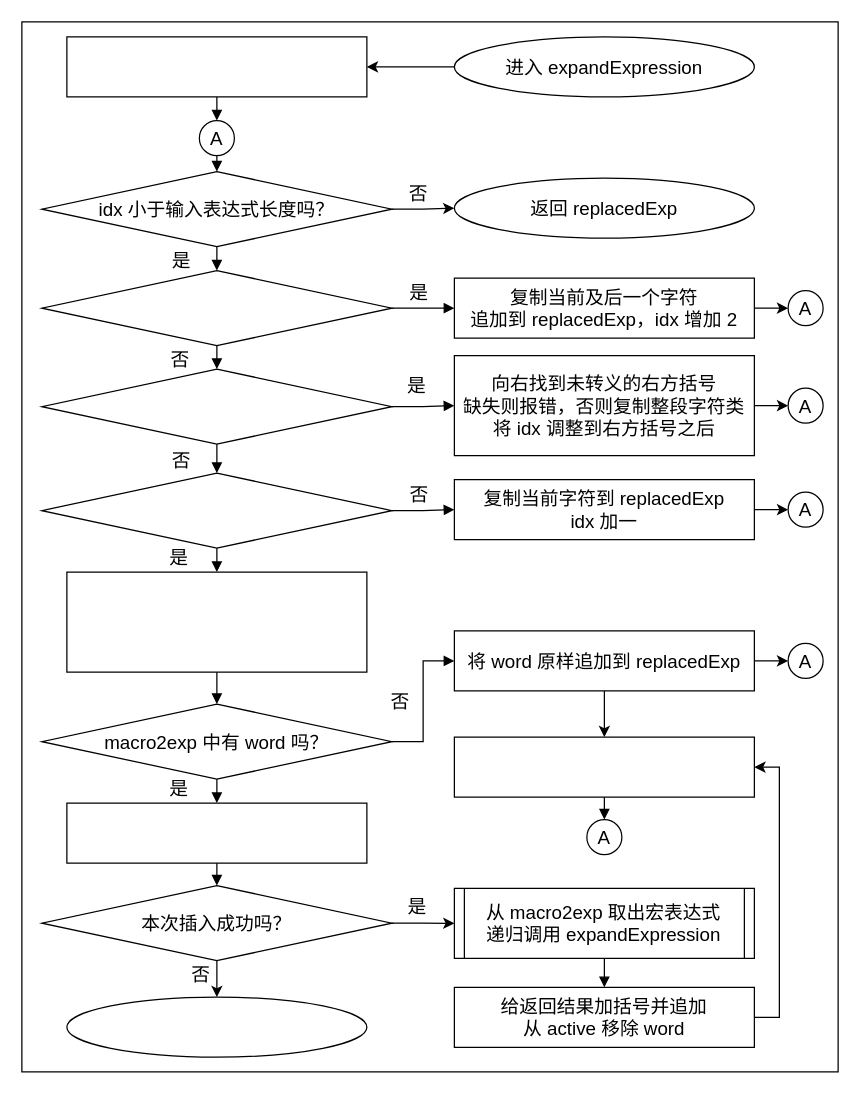
The diagram is 860 pixels wide and 1094 high, and some of its shapes have lost their labels. The shapes that lost their labels are listed below. From the top down, each one's box as (x1, y1, x2, y2) in pixels, then its label:
(66, 36, 367, 97): 建立空的 replacedExp 将扫描下标 idx 初始化为 0
(41, 269, 392, 346): 当前位置是反斜杠 且其后还有字符吗？
(41, 368, 392, 444): 当前位置是左方括号吗？
(41, 472, 392, 548): 当前位置是字母 或下划线吗？
(66, 571, 367, 672): 向右读取字母、数字和下划线 提取完整名称 word 其后的扫描位置保存为 k
(453, 736, 754, 797): 将 idx 调整为 k
(66, 802, 367, 863): 尝试将 word 插入 active
(66, 996, 367, 1057): 报告宏循环引用并终止
